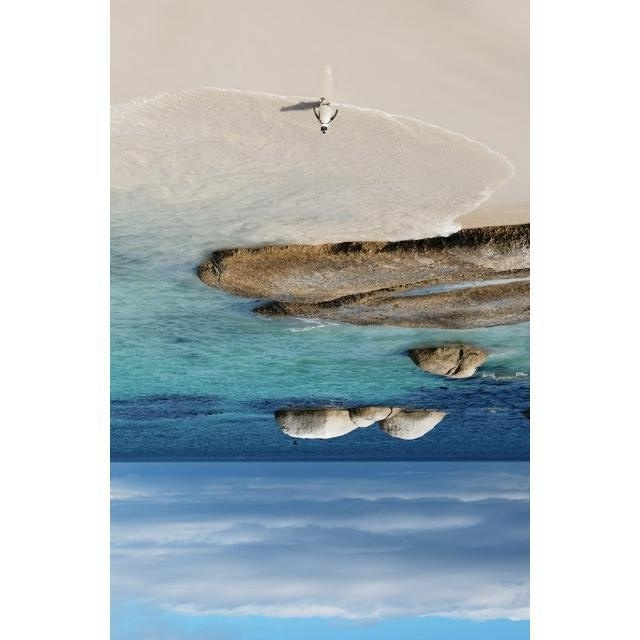penguin: (311, 96, 338, 135)
